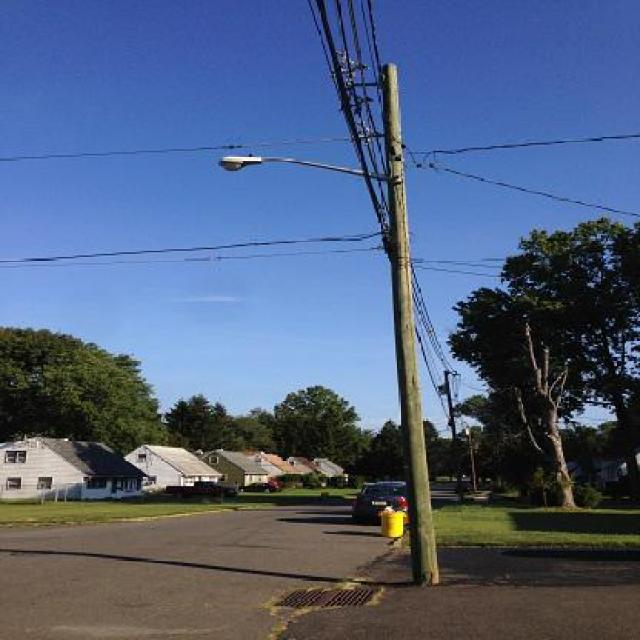pole: (335, 51, 454, 583)
